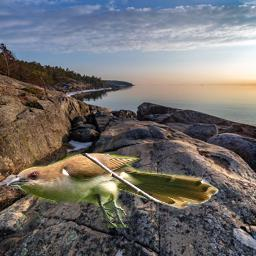Cuckoo: (7, 153, 220, 228)
